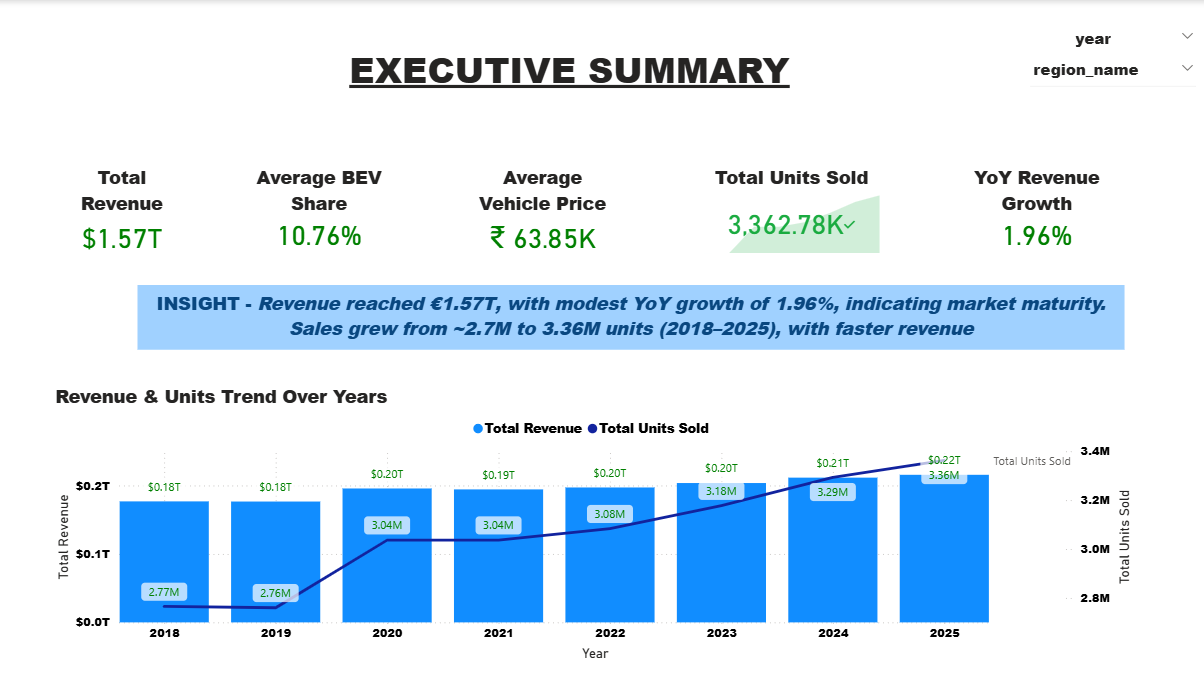

The page's visual inventory and layout, read from the dashboard file:
{"tool":"powerbi","page":{"name":"Page 1","canvas":[1280,720],"ordinal":0},"visuals":[{"type":"card","title":"Total Revenue","fields":{"Values":["fact_sales.Total Revenue"]},"box":[55.7,175,151.1,97],"z":0},{"type":"kpi","title":"Total Units Sold","fields":{"Indicator":["fact_sales.Total Units Sold"],"TrendLine":["dim_date.year"],"Goal":["Sum(fact_sales.units_sold)"]},"box":[742.8,175,197.2,98.6],"z":1000},{"type":"slicer","fields":{"Values":["dim_date.year"]},"box":[1129.3,23.9,151.1,33.4],"z":2000},{"type":"card","title":"Average Vehicle Price","fields":{"Values":["fact_sales.Average Vehicle Price"]},"box":[489.9,175,175,98.6],"z":3000},{"type":"card","title":"YoY Revenue Growth","fields":{"Values":["fact_sales.YoY Revenue Growth"]},"box":[997.3,175,208.4,90.7],"z":4000},{"type":"lineClusteredColumnComboChart","title":"Revenue & Units Trend Over Years","fields":{"Category":["dim_date.year"],"Y":["fact_sales.Total Revenue"],"Y2":["fact_sales.Total Units Sold"]},"box":[55.7,407.2,1150,297.4],"z":5000},{"type":"card","title":"Average BEV Share","fields":{"Values":["fact_sales.Average BEV Share"]},"box":[259.3,175,162.2,90.7],"z":6000},{"type":"slicer","fields":{"Values":["dim_region.region_name"]},"box":[1084.8,57.3,195.6,35],"z":7000},{"type":"textbox","box":[184.5,41.4,843,100.2],"z":8000},{"type":"textbox","box":[147.9,302.2,1046.6,68.4],"z":8001}]}

Visuals, with their boxes in screenshot pixels (x1, y1, x2, y2), scaled from the page's 1280x720 canvas onto the 1204x673 screenshot:
"Total Revenue" card: 52, 164, 195, 254
"Total Units Sold" kpi: 699, 164, 884, 256
slicer - dim_date.year: 1062, 22, 1203, 54
"Average Vehicle Price" card: 461, 164, 625, 256
"YoY Revenue Growth" card: 938, 164, 1134, 248
"Revenue & Units Trend Over Years" lineClusteredColumnComboChart: 52, 381, 1134, 659
"Average BEV Share" card: 244, 164, 396, 248
slicer - dim_region.region_name: 1020, 54, 1203, 86
textbox: 174, 39, 966, 132
textbox: 139, 282, 1124, 346
